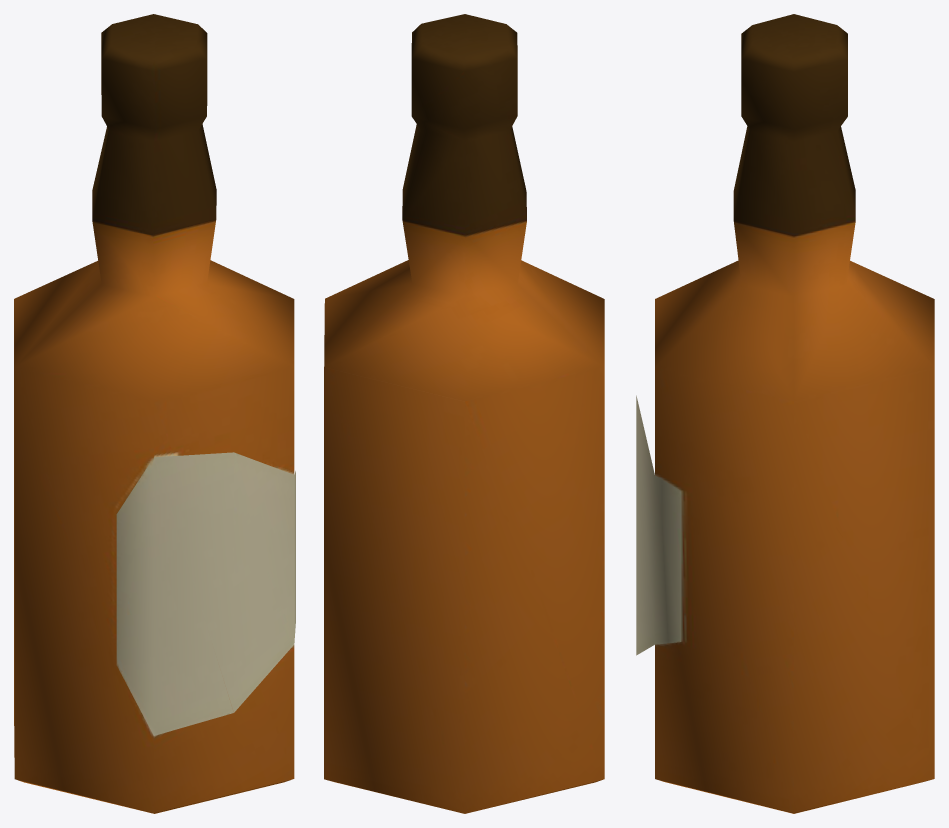
Rendered from 019ed19e-e035-7721-8865-0092e07ccbf3.glb.
3 views of the same model, side by side, from view 1: azimuth 30°, elevation 25°; view 2: azimuth 150°, elevation 25°; view 3: azimuth 270°, elevation 25° (orthographic).
Parts seen in each view (by area): view 1: tripo_node_1294bc91-cf89-4bd7-917d-0b08b4790751; view 2: tripo_node_1294bc91-cf89-4bd7-917d-0b08b4790751; view 3: tripo_node_1294bc91-cf89-4bd7-917d-0b08b4790751.
Boxes of the visible parts, <box> form: tripo_node_1294bc91-cf89-4bd7-917d-0b08b4790751: <box>14,14,295,813</box>; tripo_node_1294bc91-cf89-4bd7-917d-0b08b4790751: <box>324,14,604,813</box>; tripo_node_1294bc91-cf89-4bd7-917d-0b08b4790751: <box>636,14,934,813</box>.
Bounding box in the file's own units: 0.4082 × 0.998 × 0.377.
1 material, 1 textured.
